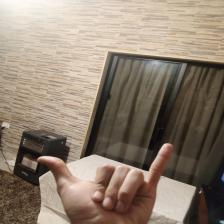five: (28, 141, 177, 218)
